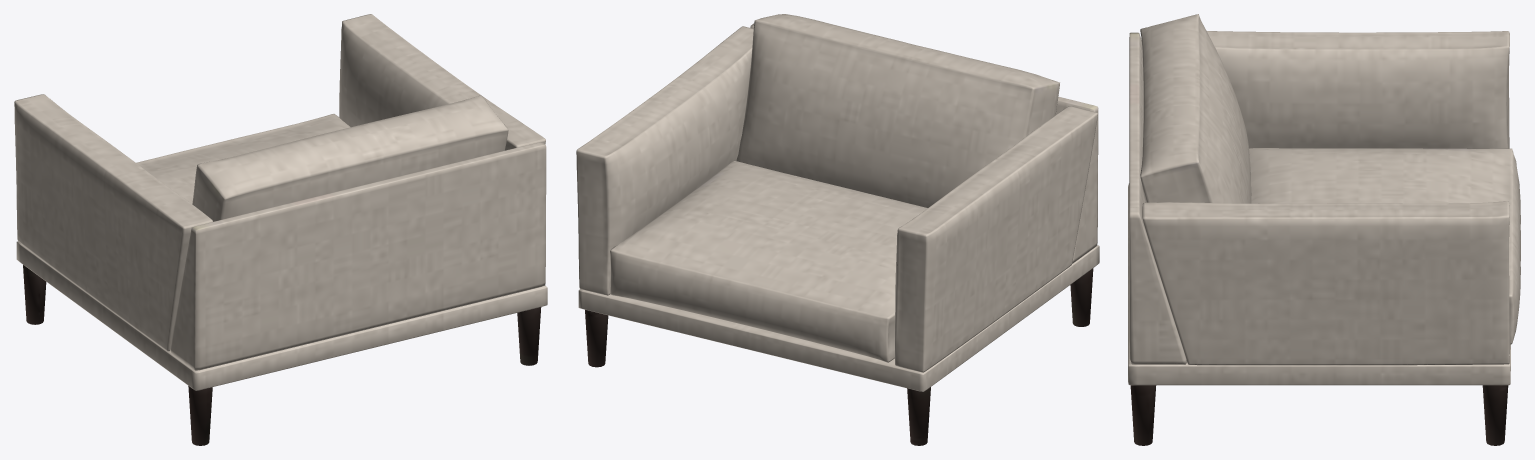
The model's file is Sofa09.glb.
3 renders of one model, left to right at view 1: azimuth 30°, elevation 25°; view 2: azimuth 150°, elevation 25°; view 3: azimuth 270°, elevation 25°, orthographic. The views are drawn at different scales.
Parts seen in each view (by area): view 1: Sofa09_model; view 2: Sofa09_model; view 3: Sofa09_model.
Boxes of the visible parts, box(x1,y1,x2,y2) form: Sofa09_model: box(14, 14, 547, 445); Sofa09_model: box(576, 14, 1099, 445); Sofa09_model: box(1128, 14, 1520, 445).
Size of the model in its own units: 2.64 by 1.77 by 2.32.
1 material, 1 textured.
